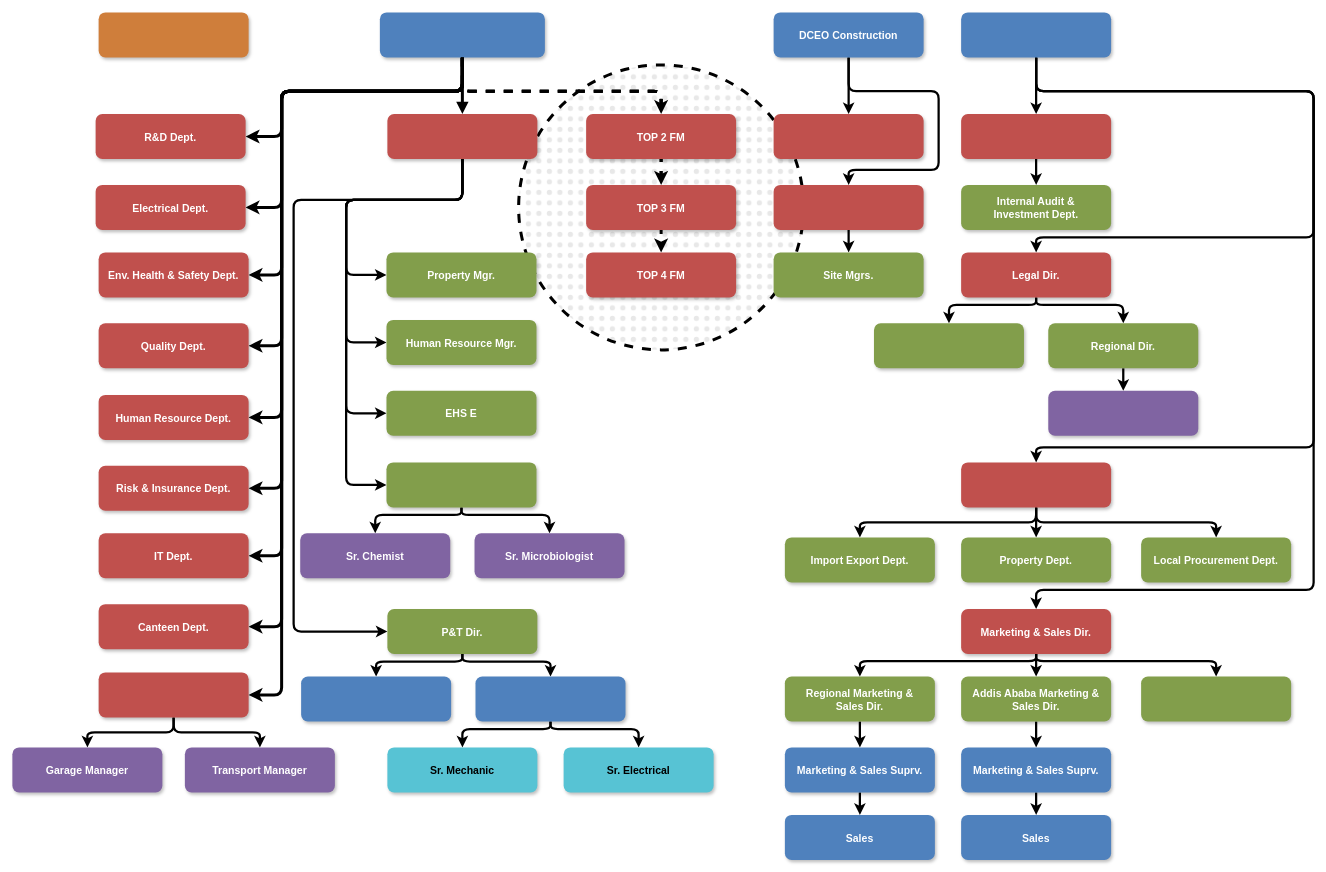
Some shapes in this 1326 by 872 pixel diagram are drawn without their labels. Here are the shapes that lost their labels. From the top down, the centre of each, then its label:
(x=174, y=35): CEO
(x=462, y=35): DCEO Operations
(x=1036, y=35): DCEO FSM
(x=463, y=137): TOP 1 FM
(x=849, y=137): PM Dir.
(x=1036, y=137): Finance Dir.
(x=849, y=208): Construction Dir.
(x=949, y=346): Federal Dir.
(x=1123, y=414): Legal Mgr.
(x=462, y=485): Quality Mgr.
(x=1036, y=485): Supply Chain & Import Export Dir.
(x=174, y=695): Garage & Transport Dir.
(x=376, y=699): Production Mgr.
(x=551, y=699): Technique Mgr.
(x=1216, y=699): Marketing Dir.
